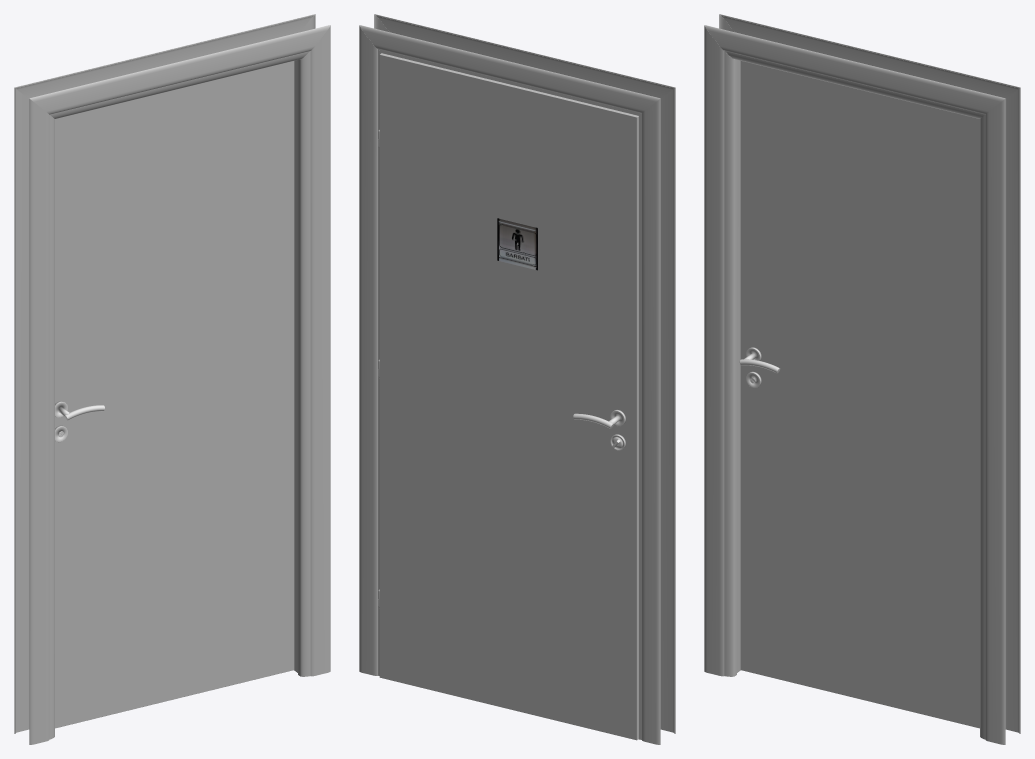
Rendered from usa_baie_b.fbx.
3 renders of one model, left to right at view 1: azimuth 30°, elevation 25°; view 2: azimuth 150°, elevation 25°; view 3: azimuth 330°, elevation 25°, orthographic.
Visible parts, largest first — view 1: Plane, door MF frame; view 2: Plane, door MF frame; view 3: Plane, door MF frame.
Boxes of the visible parts, left/top/right/bottom form: Plane: left=55, top=61, right=294, bottom=728; door MF frame: left=14, top=14, right=330, bottom=744; Plane: left=378, top=53, right=638, bottom=740; door MF frame: left=359, top=14, right=675, bottom=744; Plane: left=739, top=61, right=979, bottom=728; door MF frame: left=704, top=14, right=1020, bottom=744.
Bounding box in the file's own units: 103 × 211 × 17.38.
